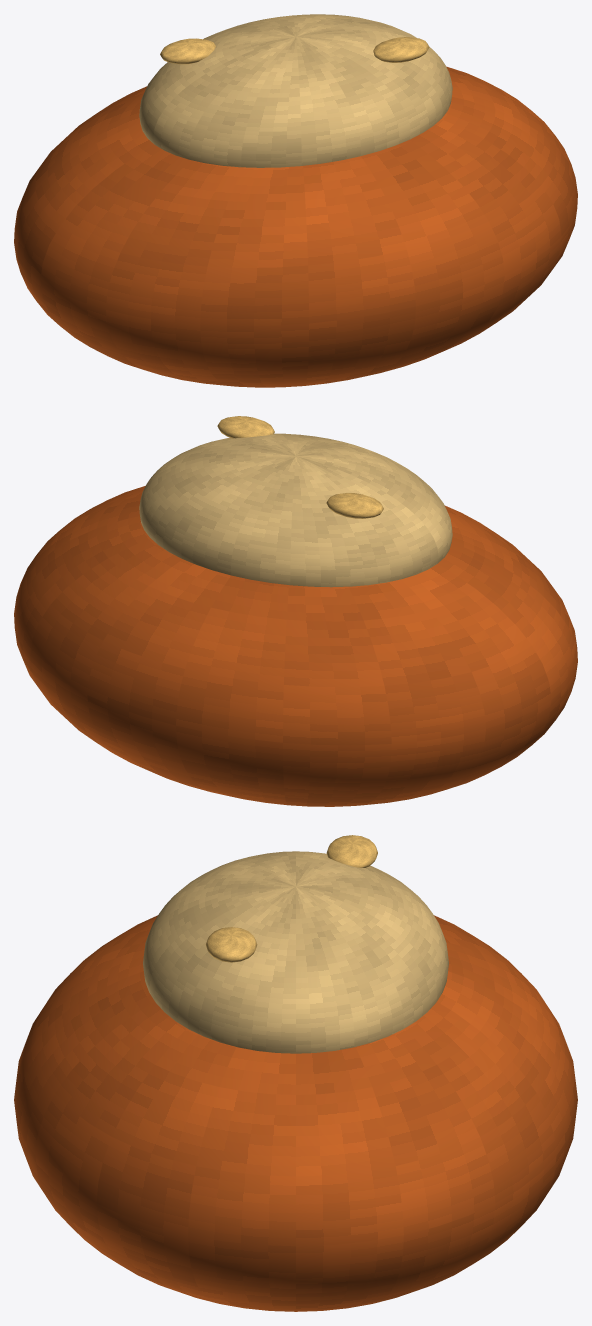
File: bread_potato.glb
The picture shows the model from 3 angles, top to bottom: view 1: azimuth 30°, elevation 25°; view 2: azimuth 150°, elevation 25°; view 3: azimuth 270°, elevation 25°; orthographic projection. The views are drawn at different scales.
Parts seen in each view (by area): view 1: じゃがいもぱんの丸い生地, 中央のじゃがいも, こんがりチーズ粒.001, こんがりチーズ粒; view 2: じゃがいもぱんの丸い生地, 中央のじゃがいも, こんがりチーズ粒, こんがりチーズ粒.001; view 3: じゃがいもぱんの丸い生地, 中央のじゃがいも, こんがりチーズ粒.001, こんがりチーズ粒.
Boxes of the visible parts, left/top/right/bottom form: じゃがいもぱんの丸い生地: left=14, top=66, right=577, bottom=387; 中央のじゃがいも: left=139, top=14, right=452, bottom=167; こんがりチーズ粒.001: left=373, top=37, right=429, bottom=62; こんがりチーズ粒: left=160, top=38, right=215, bottom=64; じゃがいもぱんの丸い生地: left=14, top=486, right=577, bottom=806; 中央のじゃがいも: left=139, top=433, right=452, bottom=587; こんがりチーズ粒: left=326, top=493, right=383, bottom=518; こんがりチーズ粒.001: left=217, top=416, right=274, bottom=438; じゃがいもぱんの丸い生地: left=14, top=915, right=577, bottom=1311; 中央のじゃがいも: left=143, top=851, right=448, bottom=1053; こんがりチーズ粒.001: left=206, top=927, right=257, bottom=962; こんがりチーズ粒: left=326, top=835, right=377, bottom=867.
Size of the model in its own units: 0.86 by 0.502 by 0.7.
Materials: 3 (3 with a texture image).
